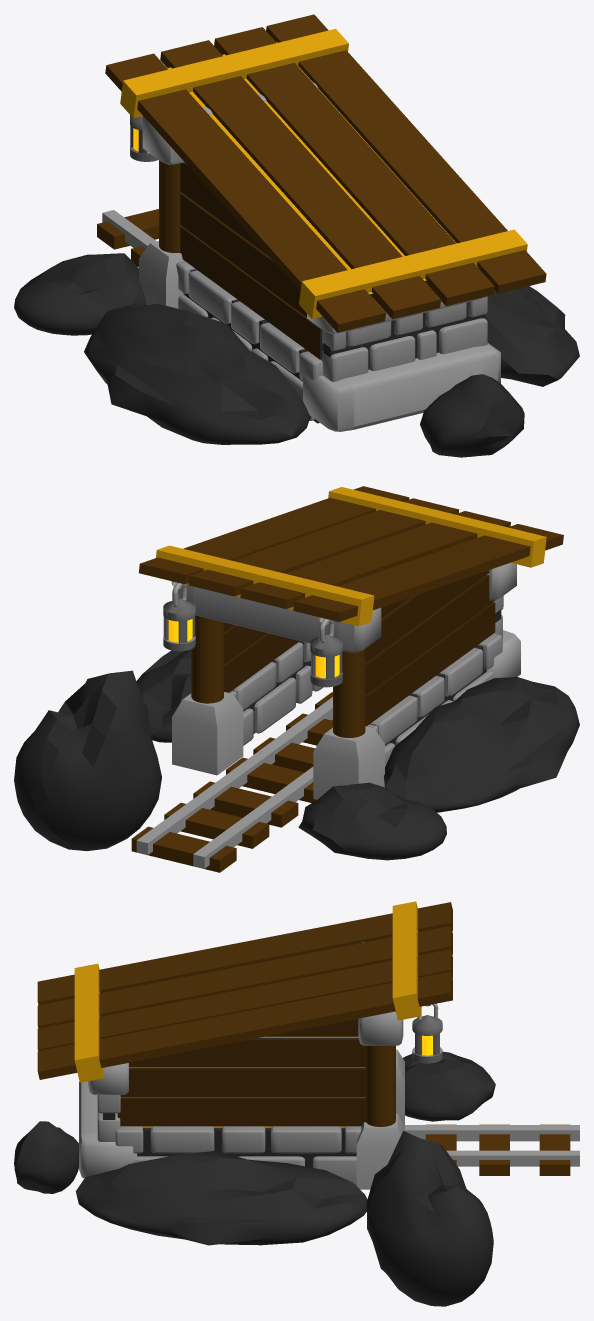
File: mina2.fbx
The picture shows the model from 3 angles, top to bottom: view 1: azimuth 30°, elevation 25°; view 2: azimuth 150°, elevation 25°; view 3: azimuth 270°, elevation 25°; orthographic projection. The views are drawn at different scales.
Parts seen in each view (by area): view 1: Cube.004; view 2: Cube.004; view 3: Cube.004.
Boxes of the visible parts, x1,y1,x2,y2 form: Cube.004: (14,14,579,457); Cube.004: (14,486,579,872); Cube.004: (14,901,579,1306).
Bounding box in the file's own units: 1508 × 1030 × 1876.
